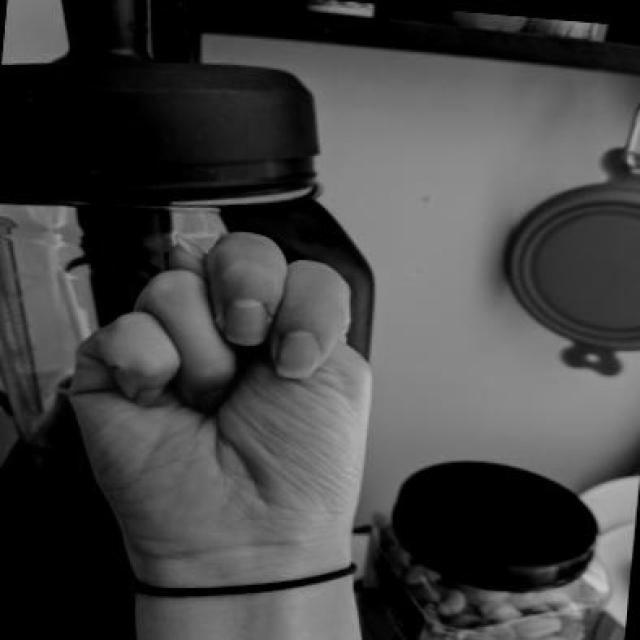N: (48, 214, 392, 584)
